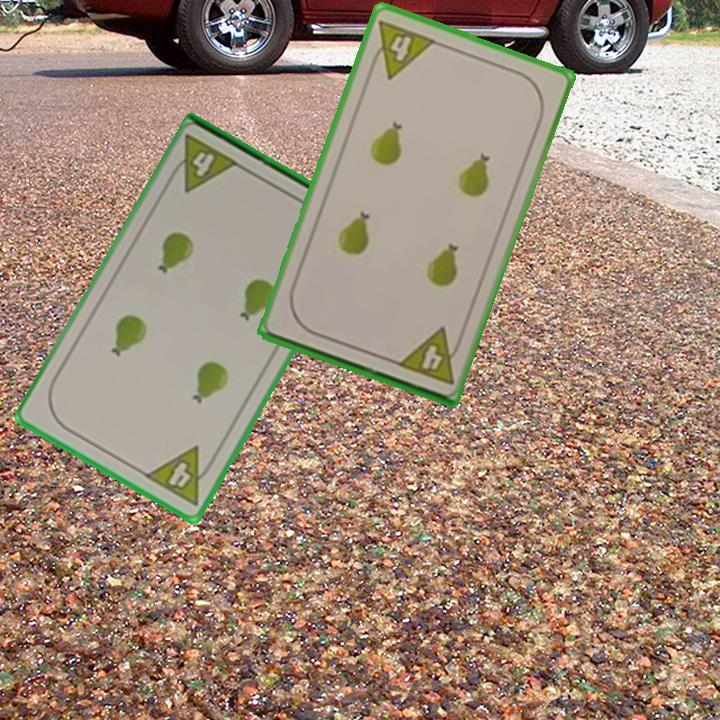4p: (141, 442, 220, 509), (164, 131, 243, 195), (364, 16, 439, 82), (393, 324, 466, 388)
